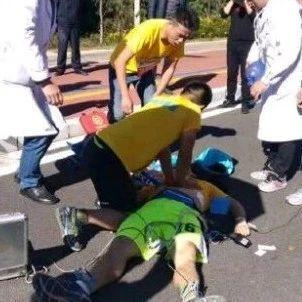Fall-Detected: (19, 152, 248, 302)
